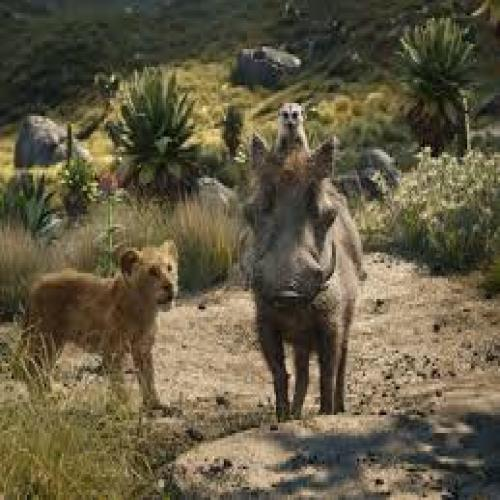lion-endangered: (16, 247, 186, 406)
